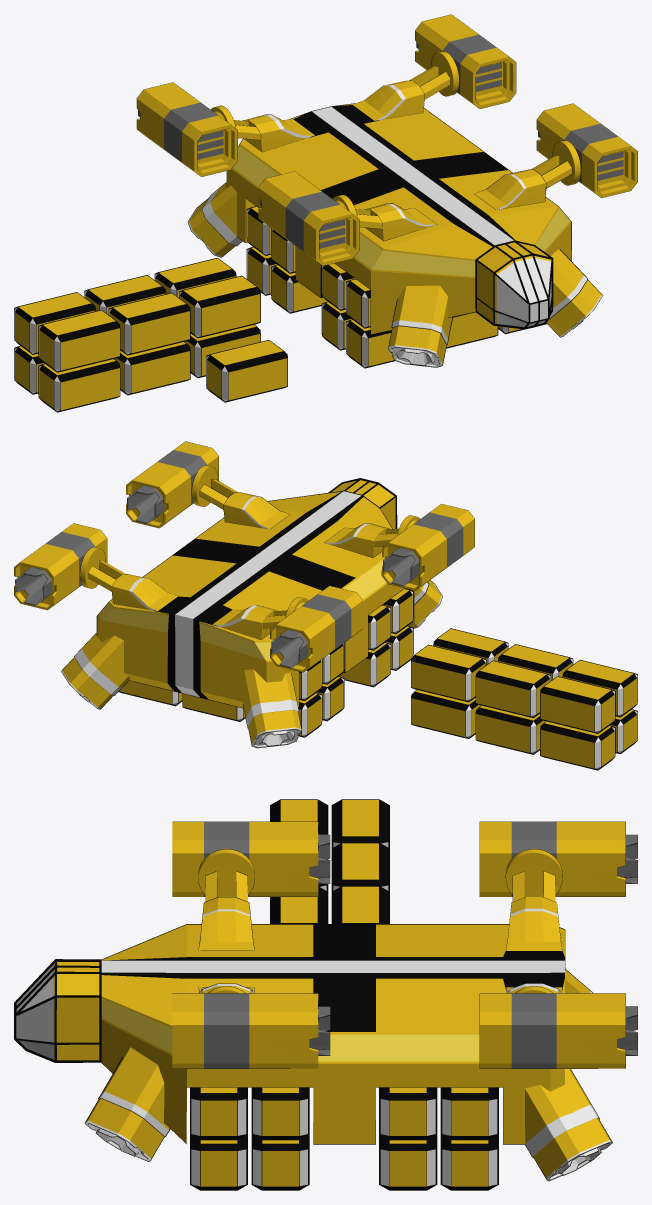
Rendered from CargoShip.fbx.
3 renders of one model, top to bottom at view 1: azimuth 30°, elevation 25°; view 2: azimuth 150°, elevation 25°; view 3: azimuth 270°, elevation 25°, orthographic. The views are drawn at different scales.
Parts seen in each view (by area): view 1: MainBody, Cargo 1.002, Cargo2, Thruster.002, Thruster.003, Thruster, Thruster.001, Cockpit, Front Thrust Connector, Rear Thrust Connector, Cargo 1.001, Front Exhaust (+6 smaller); view 2: MainBody, Cargo 1.002, Cargo2, Thruster.002, Thruster.003, Thruster, Thruster.001, Rear Exhaust, Front Thrust Connector, Rear Thrust Connector, Rear Body Thruster, Cockpit (+3 smaller); view 3: MainBody, Cargo2, Thruster, Thruster.001, Cargo 1.002, Thruster.003, Thruster.002, Cockpit, Rear Exhaust, Rear Thrust Connector, Front Thrust Connector, Front Exhaust (+5 smaller).
Boxes of the visible parts, bbox=[...] form: MainBody: bbox=[226, 103, 571, 334]; Cargo 1.002: bbox=[14, 258, 260, 412]; Cargo2: bbox=[246, 206, 546, 368]; Thruster.002: bbox=[258, 171, 359, 265]; Thruster.003: bbox=[136, 82, 237, 176]; Thruster: bbox=[415, 14, 516, 108]; Thruster.001: bbox=[536, 103, 637, 197]; Cockpit: bbox=[477, 242, 551, 327]; Front Thrust Connector: bbox=[355, 155, 572, 241]; Rear Thrust Connector: bbox=[234, 66, 450, 152]; Cargo 1.001: bbox=[206, 340, 287, 402]; Front Exhaust: bbox=[391, 249, 587, 344]; MainBody: bbox=[96, 491, 414, 708]; Cargo 1.002: bbox=[411, 628, 637, 770]; Cargo2: bbox=[119, 588, 413, 737]; Thruster.002: bbox=[381, 504, 474, 590]; Thruster.003: bbox=[270, 585, 362, 672]; Thruster: bbox=[14, 523, 107, 610]; Thruster.001: bbox=[126, 441, 218, 528]; Rear Exhaust: bbox=[74, 633, 298, 728]; Front Thrust Connector: bbox=[199, 479, 398, 557]; Rear Thrust Connector: bbox=[88, 560, 287, 639]; Rear Body Thruster: bbox=[61, 657, 301, 748]; Cockpit: bbox=[331, 480, 395, 528]; MainBody: bbox=[101, 924, 565, 1144]; Cargo2: bbox=[190, 1087, 498, 1190]; Thruster: bbox=[479, 993, 637, 1068]; Thruster.001: bbox=[172, 993, 330, 1068]; Cargo 1.002: bbox=[270, 799, 389, 923]; Thruster.003: bbox=[479, 821, 637, 896]; Thruster.002: bbox=[172, 821, 330, 896]; Cockpit: bbox=[16, 961, 99, 1060]; Rear Exhaust: bbox=[525, 969, 599, 1157]; Rear Thrust Connector: bbox=[506, 871, 562, 993]; Front Thrust Connector: bbox=[198, 871, 254, 993]; Front Exhaust: bbox=[98, 1047, 170, 1137].
Size of the model in its own units: 2506 by 746 by 1978.
